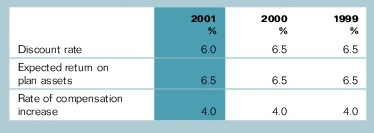table: (0, 0, 374, 133)
